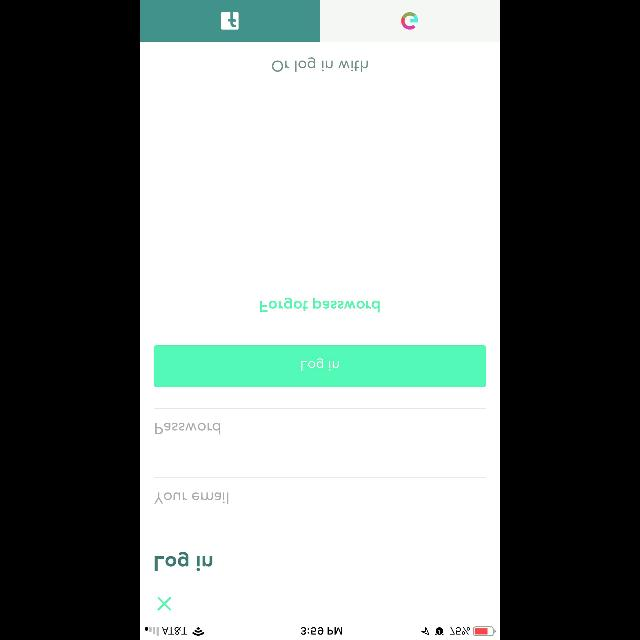icon: (157, 597, 171, 611)
input: (154, 476, 486, 504), (154, 408, 486, 434)
text: (258, 296, 379, 314), (272, 58, 368, 72), (155, 551, 213, 571), (156, 492, 228, 504), (156, 422, 220, 434)
textbutton: (154, 345, 486, 387), (320, 1, 500, 42), (140, 1, 320, 42)
uppertaskbar: (140, 626, 500, 640)
